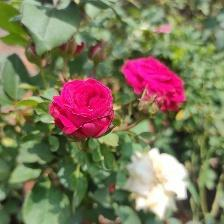rose: (121, 146, 190, 214), (49, 79, 120, 143), (122, 55, 187, 114)
